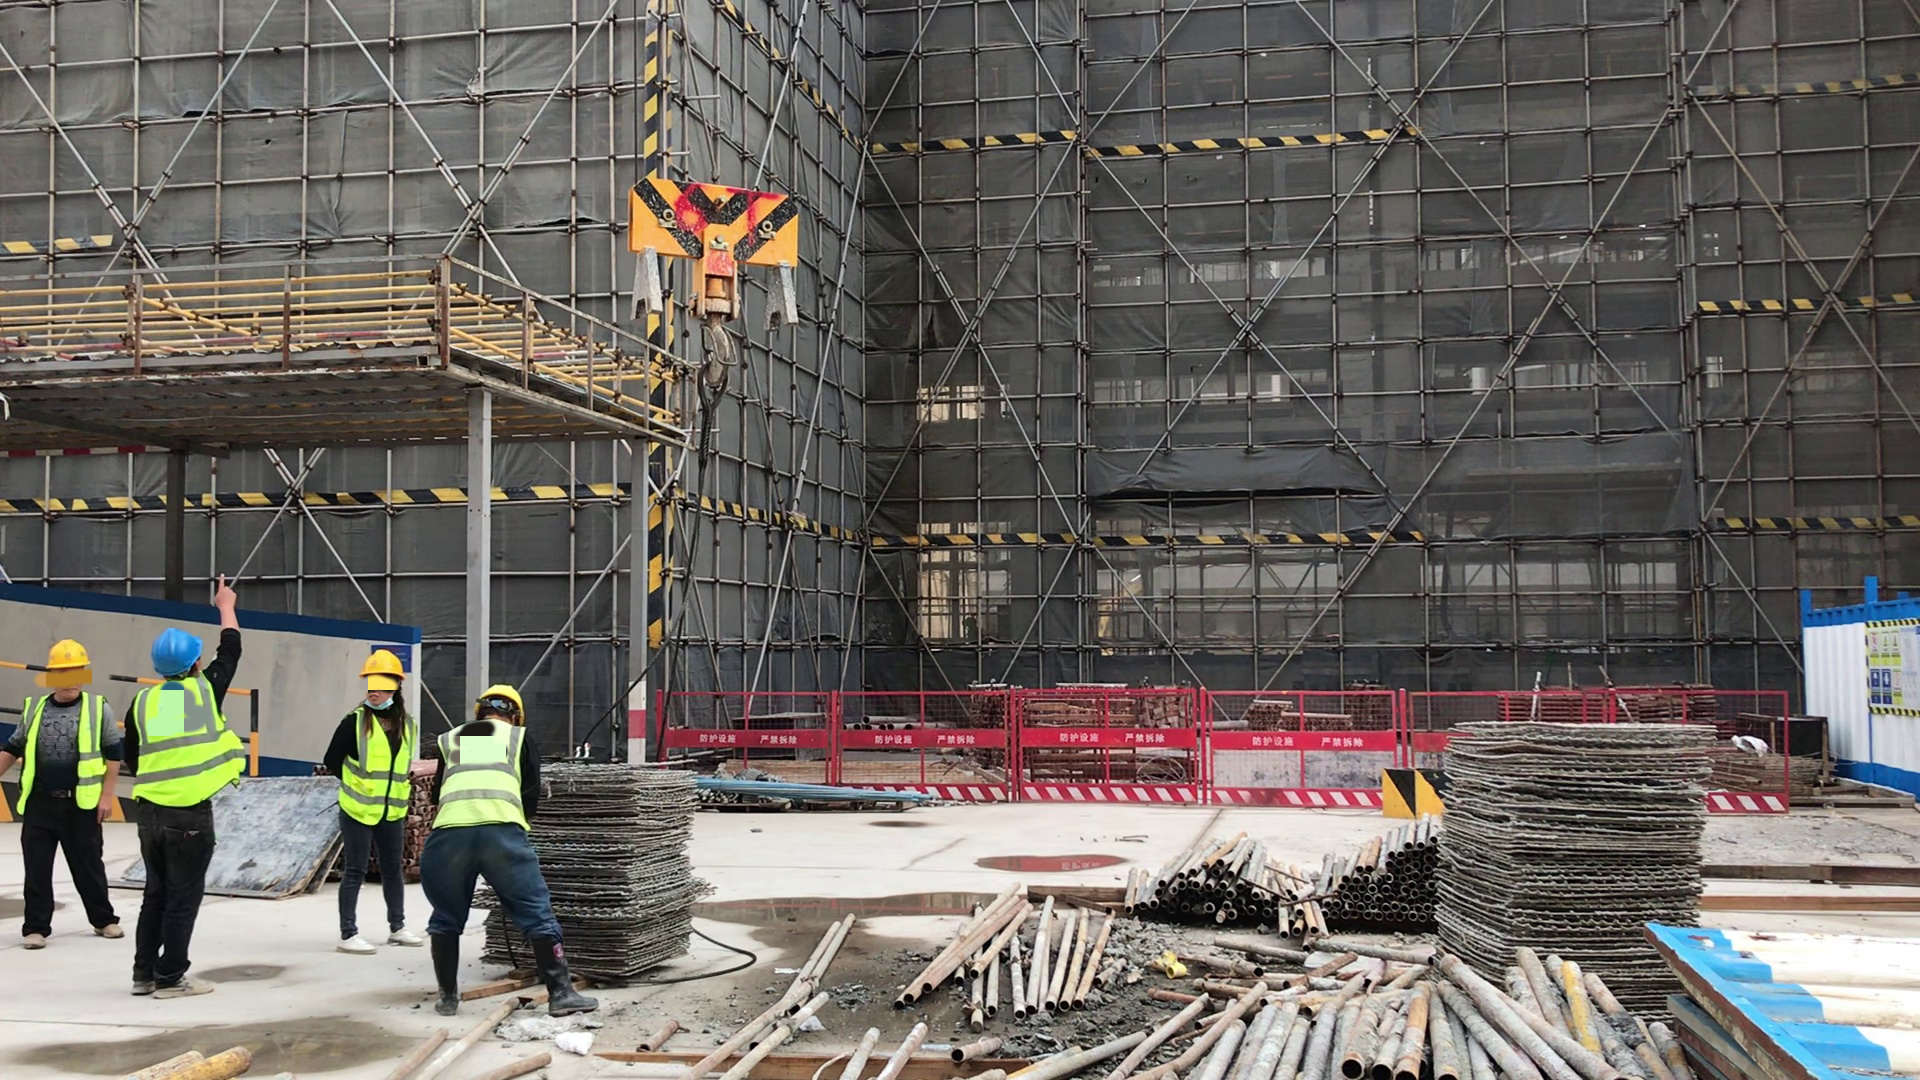helmet: (152, 629, 204, 677), (475, 683, 525, 723), (46, 641, 90, 668), (361, 651, 405, 679)
person: (429, 683, 598, 1018), (129, 626, 239, 1001), (15, 642, 119, 945), (329, 651, 417, 950)
vest: (129, 687, 242, 807), (436, 720, 528, 831), (21, 695, 104, 811), (343, 712, 417, 826)
